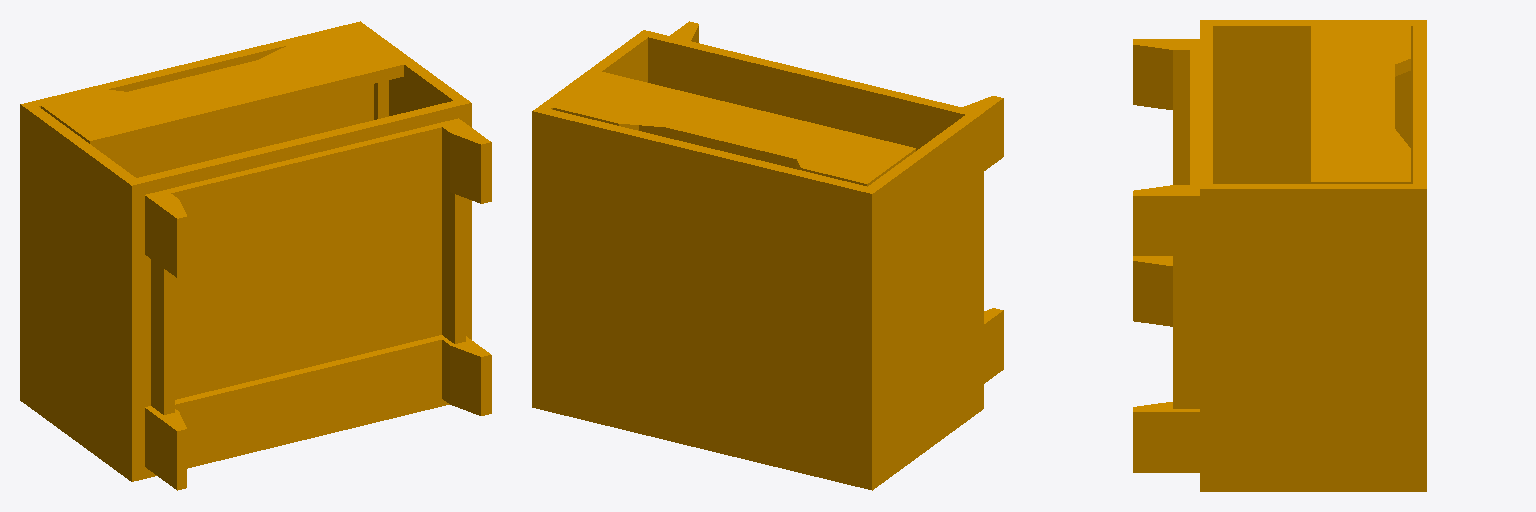
The robot description file, URDF, robot "none":
<robot name="none">
       <link name="none">
           <visual>
               <origin rpy=" 0 0 0" xyz="0 0 0" />
               <geometry>
                   <mesh filename="bedside table with drawer.obj"  scale="2 2 2"/>
               </geometry>
           </visual>
          <collision>
<origin rpy="1.57 0 0" xyz="0 0 0.5" />
              <geometry>
                  <box size=" 1.560000 1.00000 0.850000" />
              </geometry>
          </collision>

          <inertial>
            <mass value=".0" />
            <inertia ixx="0.05" ixy="0.0" ixz="0.0" iyy="0.05" iyz="0.0" izz="0.05"/>
          </inertial>
      </link>
  </robot>

--- Facts derived from the render (not from the file) ---
3 views of the same robot in one strip: view 1: azimuth 30°, elevation 25°; view 2: azimuth 150°, elevation 25°; view 3: azimuth 270°, elevation 25° (orthographic).
Model none with 1 links and 0 joints (none), rooted at none, posed every joint at zero.
Visible links, largest first — view 1: none; view 2: none; view 3: none.
Boxes of the visible links, x1=… form: none: x1=20, y1=21, x2=491, y2=490; none: x1=532, y1=21, x2=1003, y2=490; none: x1=1133, y1=20, x2=1426, y2=491.
Size in the robot's own frame: 1.2 by 0.8802 by 1 metres.
Meshes: 1 distinct files referenced, 1 mesh visuals loaded (1 OBJ).